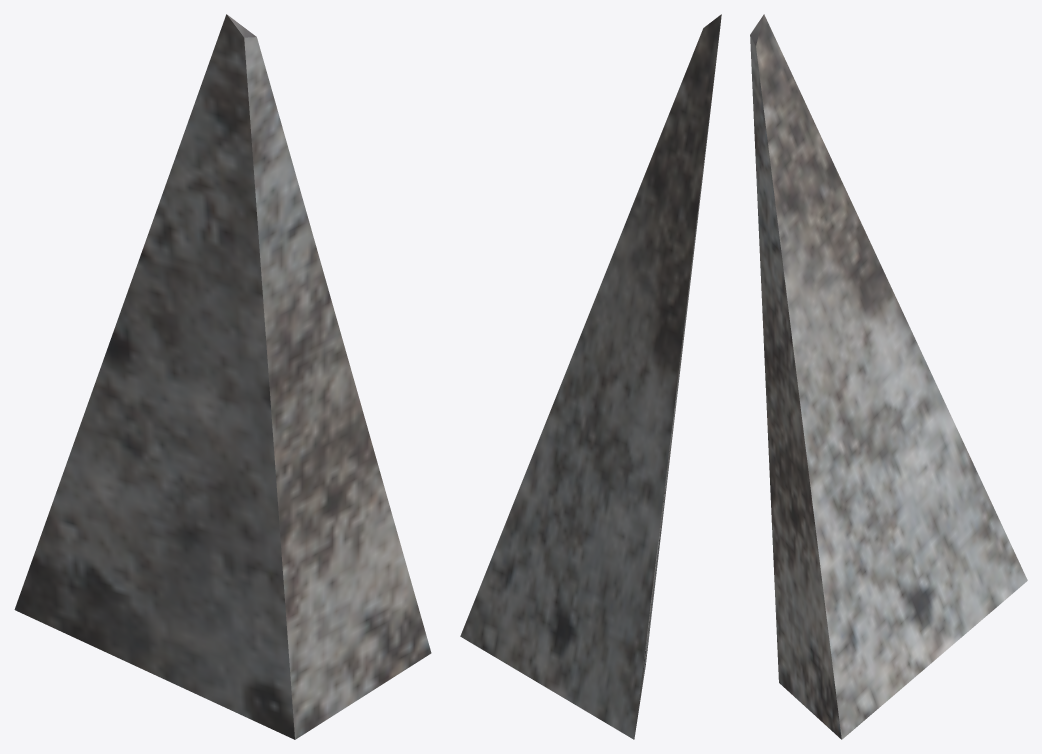
File: Asteroid_Medium_001_02_005_03_007.fbx
3 views of the same model, side by side, from view 1: azimuth 30°, elevation 25°; view 2: azimuth 150°, elevation 25°; view 3: azimuth 270°, elevation 25° (orthographic). The views are drawn at different scales.
Visible parts, largest first — view 1: Asteroid_Medium_001_02_005_03_007; view 2: Asteroid_Medium_001_02_005_03_007; view 3: Asteroid_Medium_001_02_005_03_007.
Boxes of the visible parts, left/top/right/bottom form: Asteroid_Medium_001_02_005_03_007: left=14, top=14, right=431, bottom=739; Asteroid_Medium_001_02_005_03_007: left=460, top=14, right=721, bottom=739; Asteroid_Medium_001_02_005_03_007: left=750, top=14, right=1027, bottom=739.
Size of the model in its own units: 2.55 by 5.96 by 2.36.
